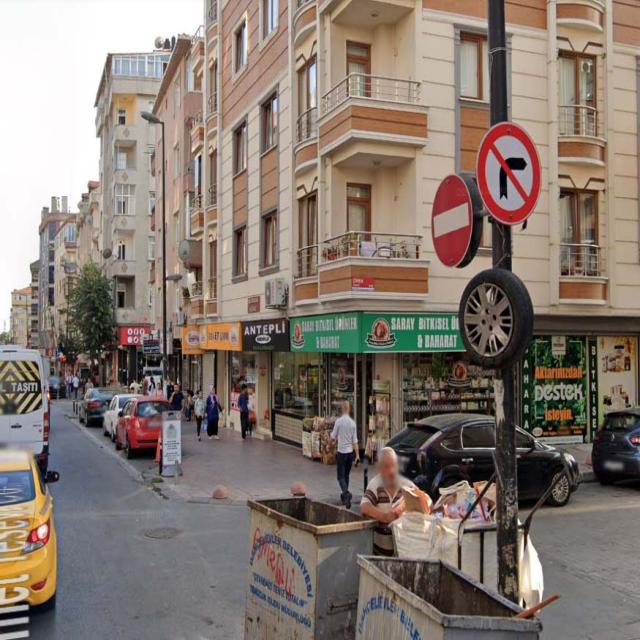girisyok: (432, 174, 472, 268)
sagadonulmez: (476, 123, 541, 225)
